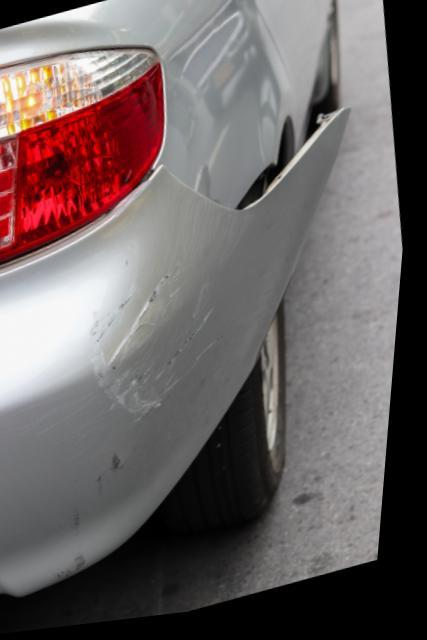dislocated part: (0, 116, 359, 596)
scratch: (38, 203, 247, 580)
